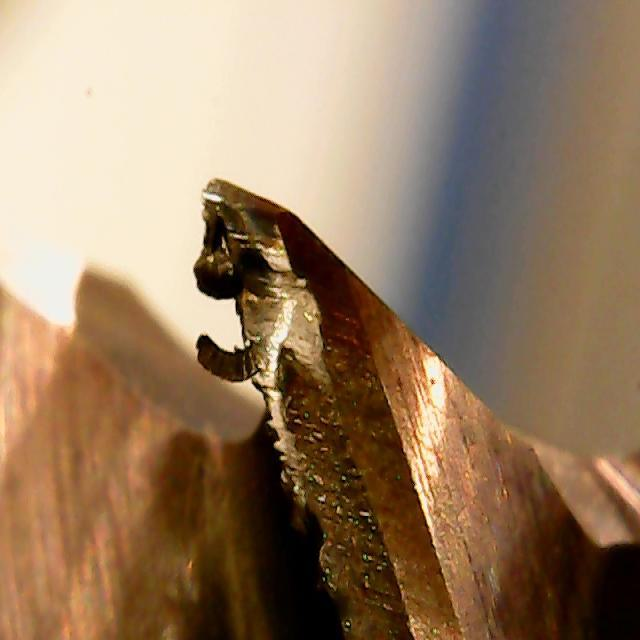Tool-wear-class-3: (191, 160, 403, 418)
